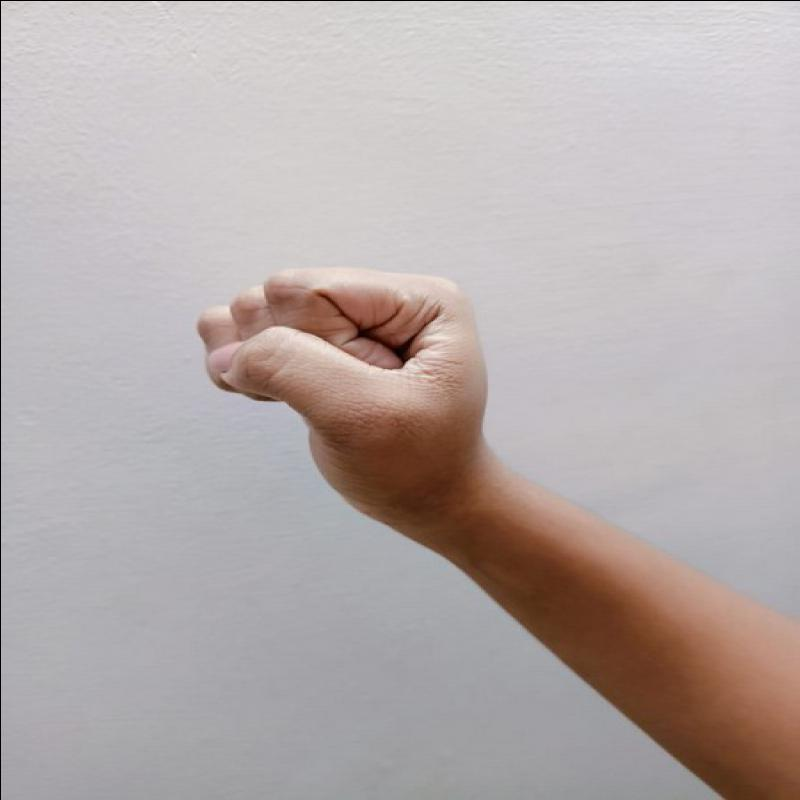Mushti: (169, 253, 500, 527)
